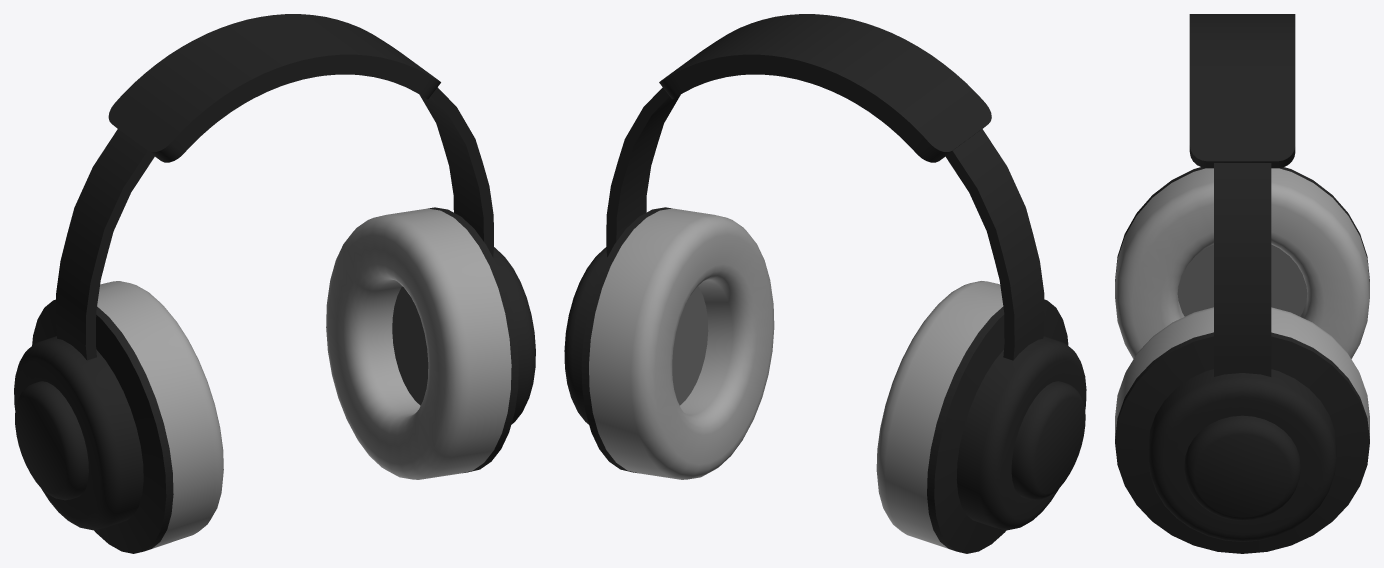
The model's file is headphone.gltf.
The picture shows the model from 3 angles, left to right: view 1: azimuth 30°, elevation 25°; view 2: azimuth 150°, elevation 25°; view 3: azimuth 270°, elevation 25°; orthographic projection. The views are drawn at different scales.
Visible parts, largest first — view 1: Cylinder.493; view 2: Cylinder.493; view 3: Cylinder.493.
Boxes of the visible parts, x1,y1,x2,y2 form: Cylinder.493: [14, 14, 535, 553]; Cylinder.493: [564, 14, 1086, 553]; Cylinder.493: [1115, 14, 1369, 553].
Size of the model in its own units: 2.33 by 2.16 by 1.13.
Materials: 1 (1 with a texture image).
